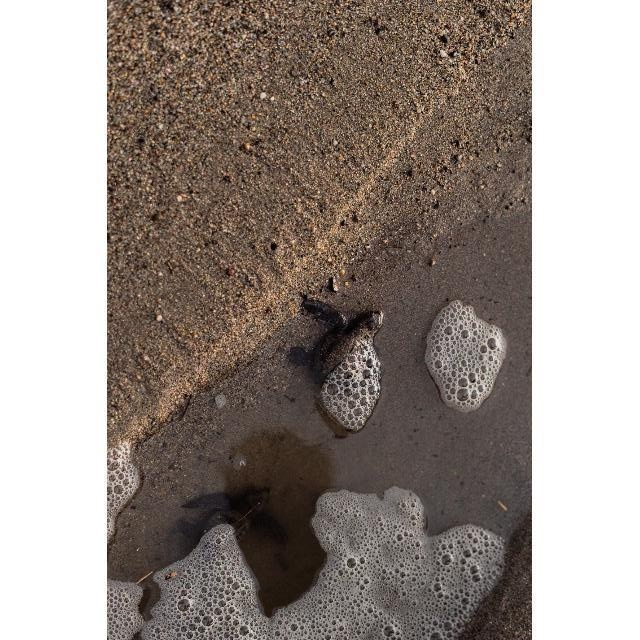turtle: (286, 296, 384, 436)
